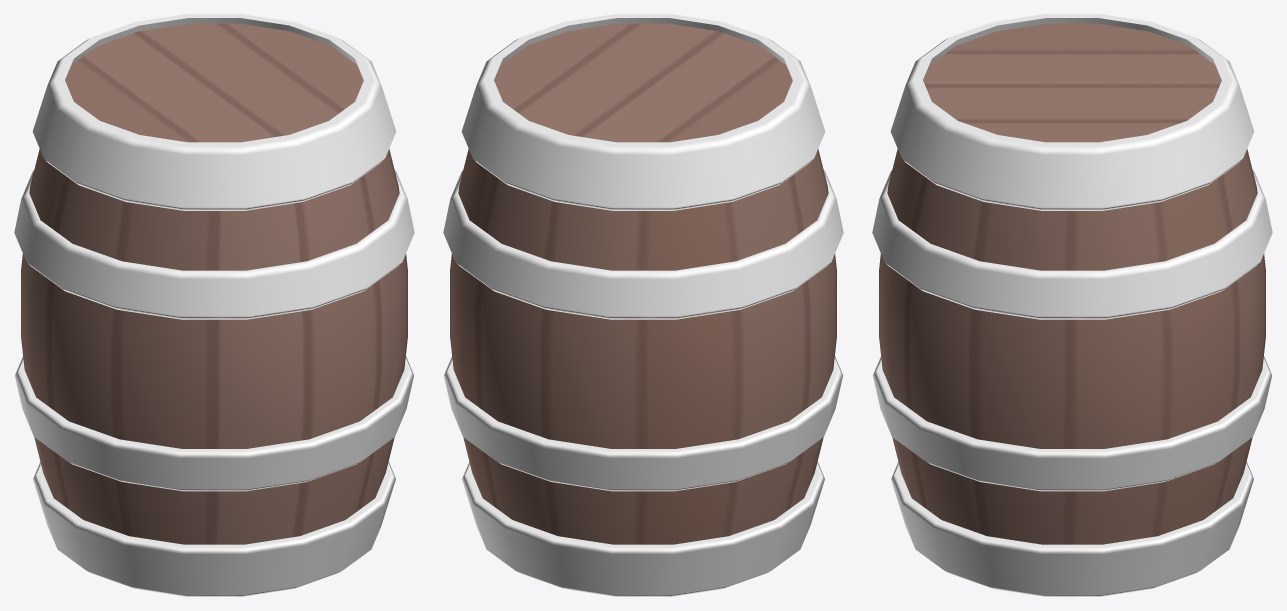
Rendered from Barrel.fbx.
3 renders of one model, left to right at view 1: azimuth 30°, elevation 25°; view 2: azimuth 150°, elevation 25°; view 3: azimuth 270°, elevation 25°, orthographic.
Visible parts, largest first — view 1: Barrel; view 2: Barrel; view 3: Barrel.
Boxes of the visible parts, x1=… form: Barrel: x1=14, y1=14, x2=414, y2=596; Barrel: x1=443, y1=14, x2=843, y2=596; Barrel: x1=872, y1=14, x2=1272, y2=596.
Size of the model in its own units: 95.55 by 120 by 97.03.
